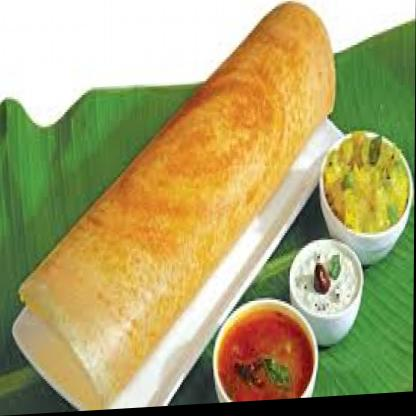dosa: (20, 3, 335, 415)
